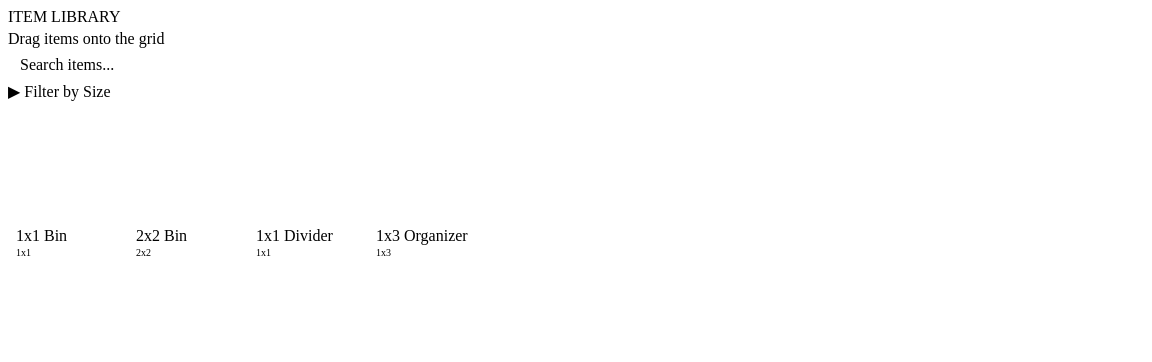
ItemLibrary › Dimension Filtering › should combine width and height filters (AND logic)
Click the button "▶ Filter by Size": (65, 92) left=8, top=82, right=1144, bottom=101
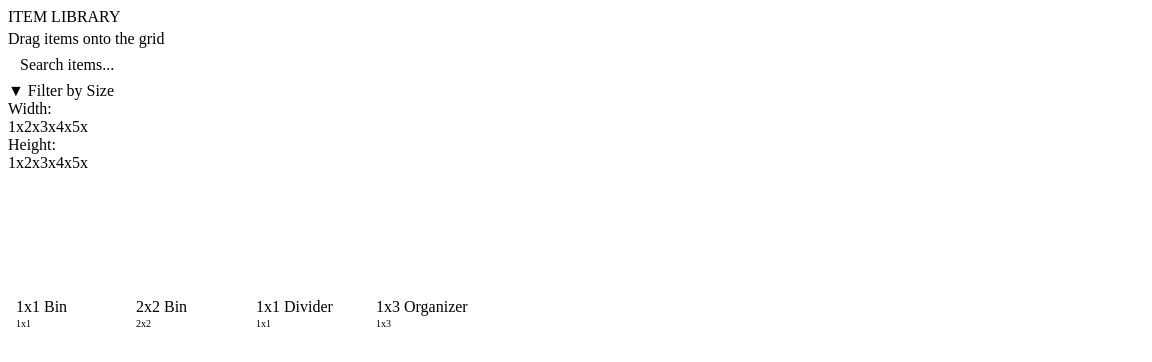
Click the button "1x" below "Width:": (16, 127) left=8, top=118, right=24, bottom=136
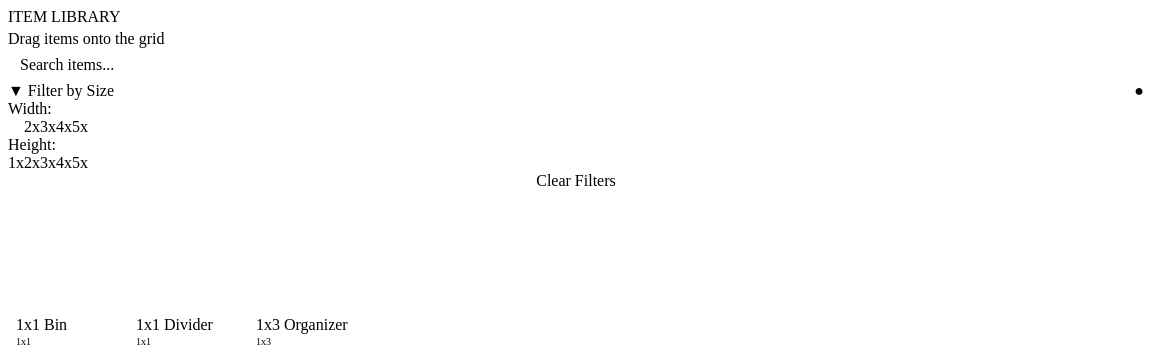
Click the button "1x" below "Height:": (16, 163) left=8, top=154, right=24, bottom=172
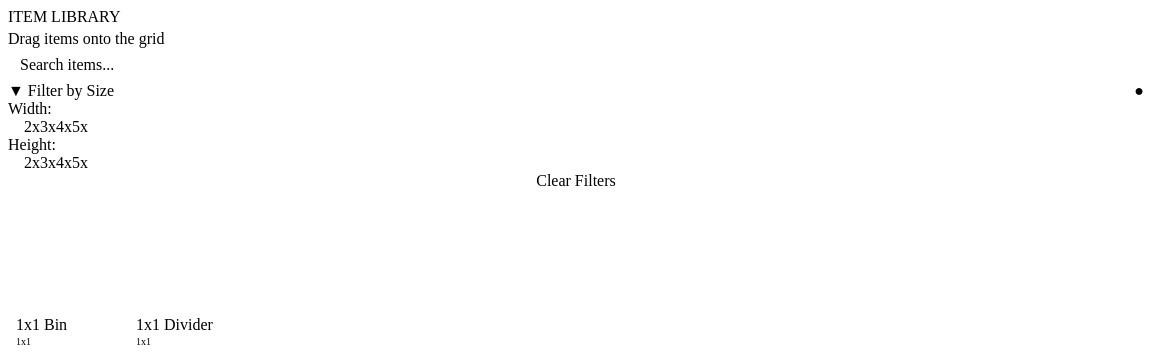
Expected: the text "1x1 Bin" is shown, left=16, top=316, right=67, bottom=333
Expected: the button "1x3 Organizer" is gone
